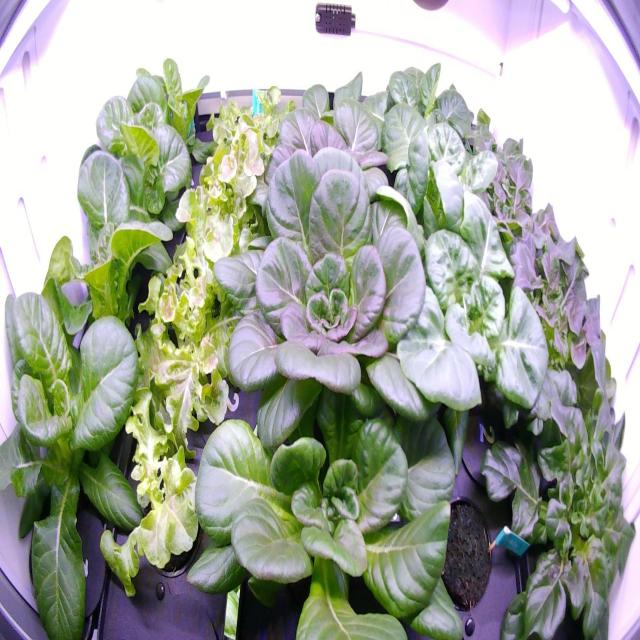pod: (420, 485, 500, 624)
young: (177, 344, 478, 636), (204, 139, 451, 426), (2, 279, 158, 638), (368, 167, 552, 429), (24, 140, 182, 349), (62, 68, 194, 258), (254, 60, 392, 212), (114, 42, 221, 175), (386, 104, 500, 218), (379, 48, 477, 148)
